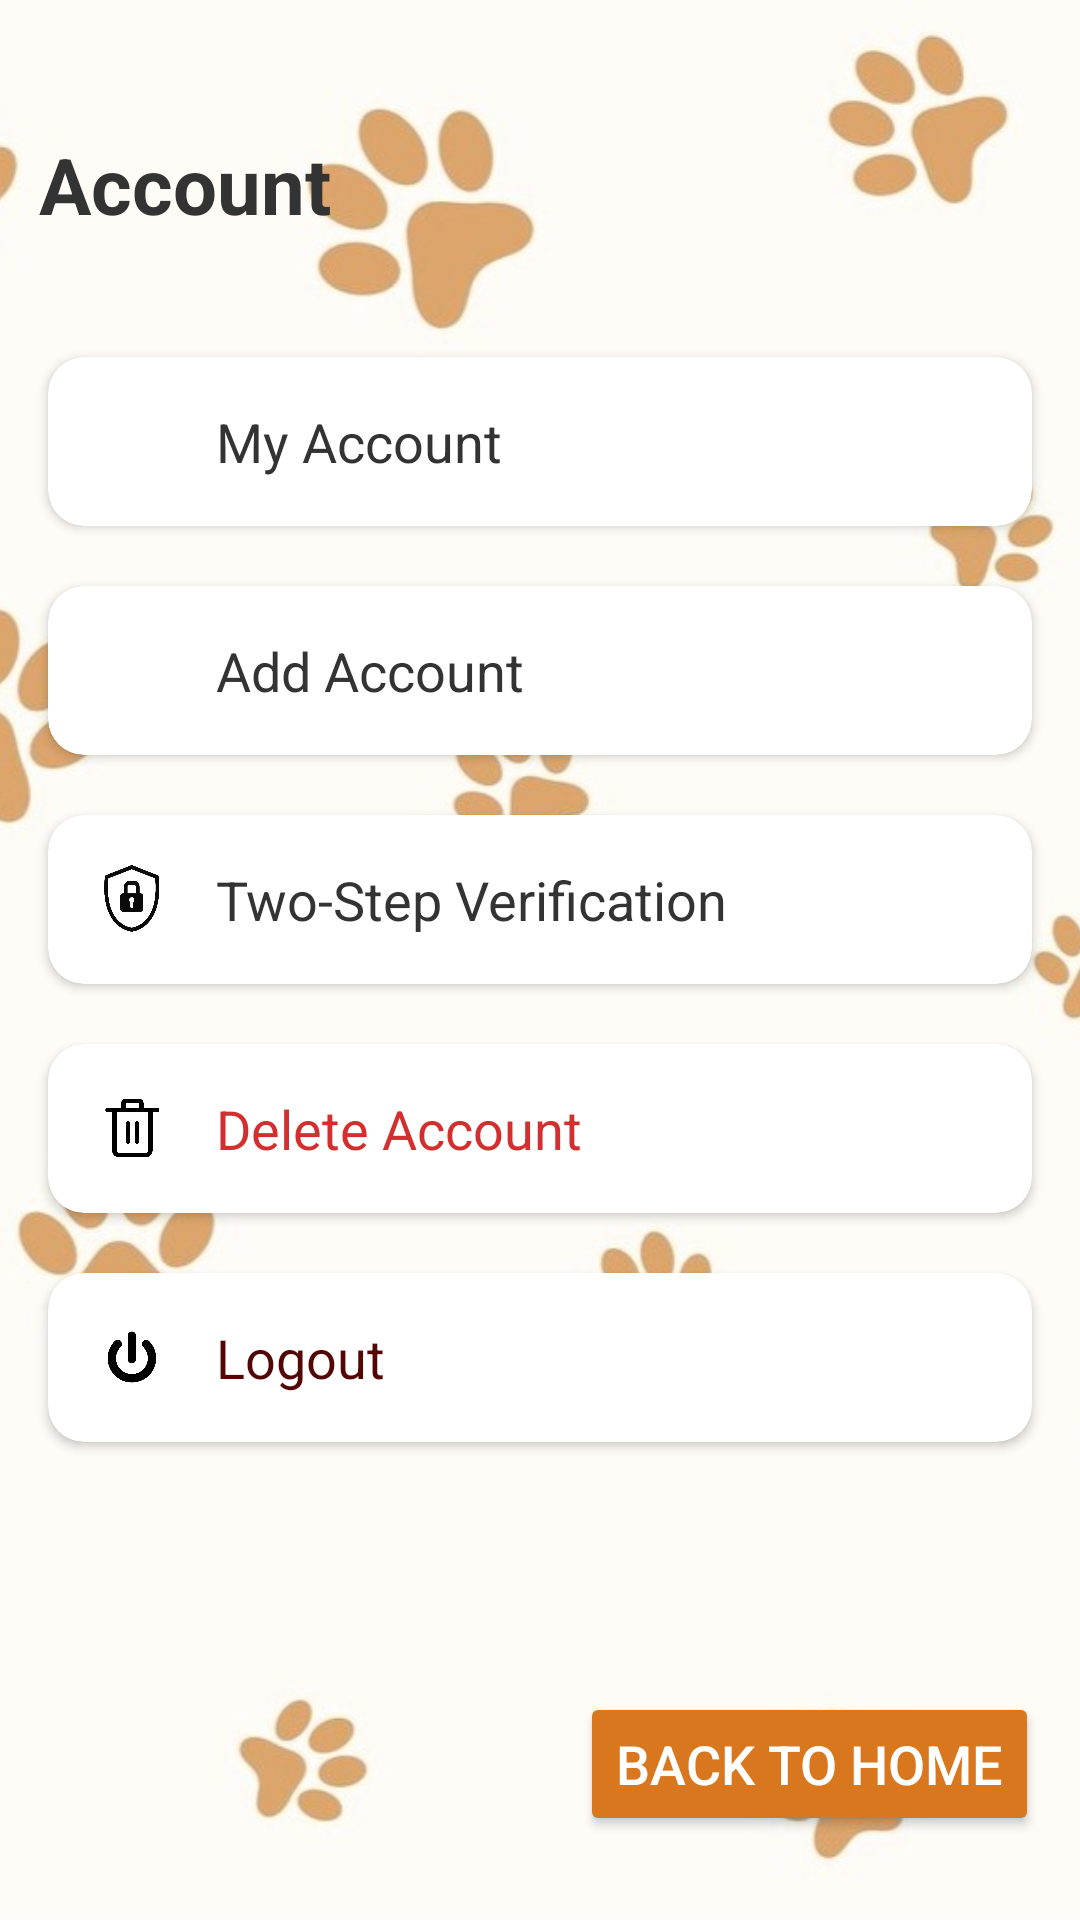

Where to tap for icons on this 1080px x 1920px app screen, as (x=x, y=y):
verify: (x=131, y=898)
